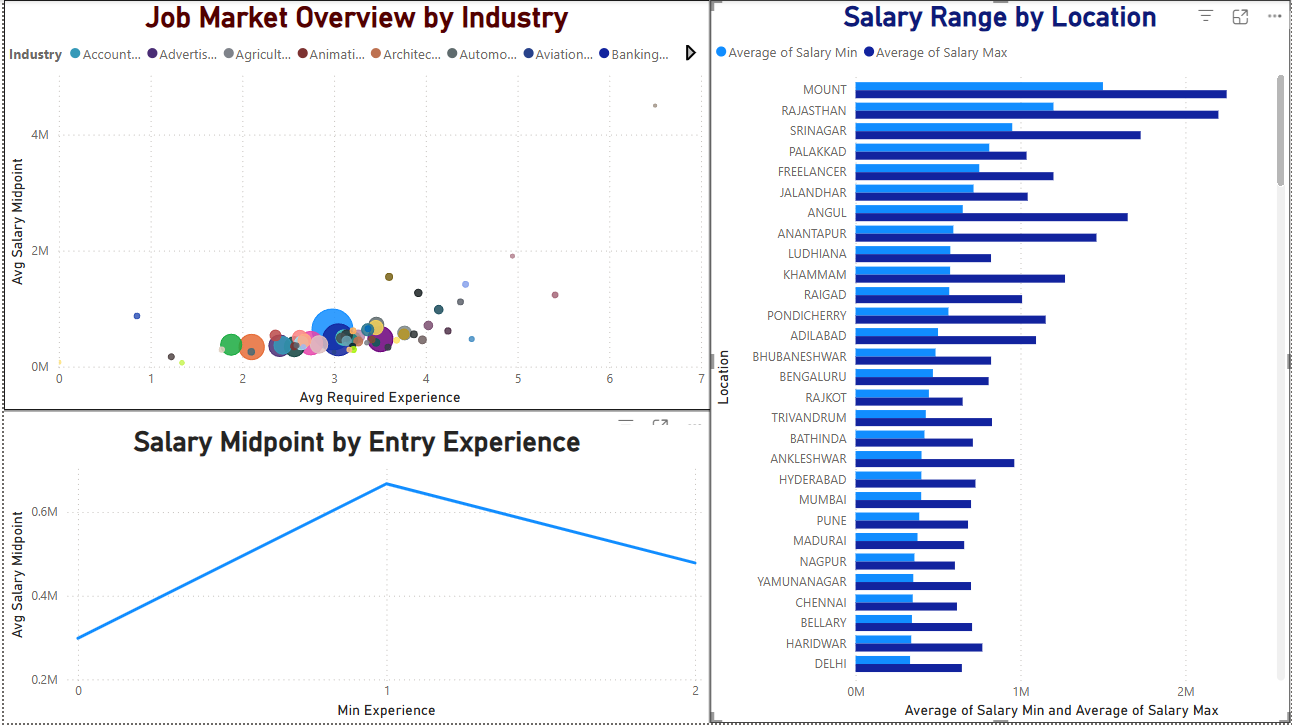

This screenshot's page, from the dashboard's own definition file:
{"tool":"powerbi","page":{"name":"Salary & Experience Trends","canvas":[1280,720],"ordinal":3},"visuals":[{"type":"scatterChart","title":"Job Market Overview by Industry","fields":{"X":["Job_Market_EntryLevel_India.Avg Required Experience"],"Y":["Job_Market_EntryLevel_India.Avg Salary Midpoint"],"Size":["Job_Market_EntryLevel_India.Job Count"],"Series":["Job_Market_EntryLevel_India.Industry"]},"box":[0,0,702.9,408.6],"z":0},{"type":"clusteredBarChart","title":"Salary Range by Location","fields":{"Category":["Job_Market_EntryLevel_India.Location"],"Y":["Avg(Job_Market_EntryLevel_India.Salary Min)","Avg(Job_Market_EntryLevel_India.Salary Max)"]},"box":[702.9,0,577.1,720],"z":1000},{"type":"lineChart","title":"Salary Midpoint by Entry Experience","fields":{"Category":["Job_Market_EntryLevel_India.Min Experience"],"Y":["Job_Market_EntryLevel_India.Avg Salary Midpoint"]},"box":[0,422.9,702.9,297.1],"z":2000},{"type":"shape","box":[552.9,0,300,720],"z":3000},{"type":"shape","box":[0,258.6,702.9,300],"z":4000}]}

Visuals, with their boxes in screenshot pixels (x1, y1, x2, y2), scaled from the page's 1280x720 canvas onto the 1292x726 screenshot:
"Job Market Overview by Industry" scatterChart: bbox(0, 0, 709, 412)
"Salary Range by Location" clusteredBarChart: bbox(709, 0, 1291, 725)
"Salary Midpoint by Entry Experience" lineChart: bbox(0, 426, 709, 725)
shape: bbox(558, 0, 861, 725)
shape: bbox(0, 261, 709, 563)
